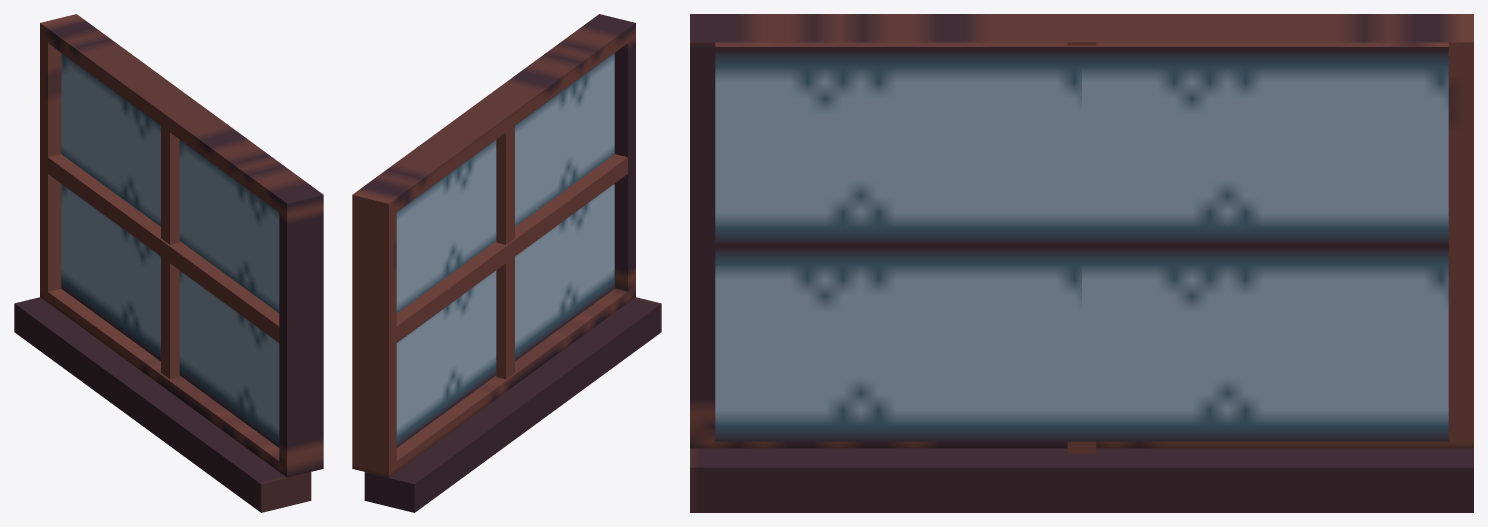
The model's file is Janela.fbx.
3 views of the same model, side by side, from view 1: azimuth 30°, elevation 25°; view 2: azimuth 150°, elevation 25°; view 3: azimuth 270°, elevation 25° (orthographic). The views are drawn at different scales.
Visible parts, largest first — view 1: Janela; view 2: Janela; view 3: Janela.
Part boxes in pixels (x1,y1,x2,y2): Janela: [14, 14, 323, 512]; Janela: [352, 14, 661, 512]; Janela: [690, 14, 1473, 512].
Size of the model in its own units: 32.82 by 225 by 152.
